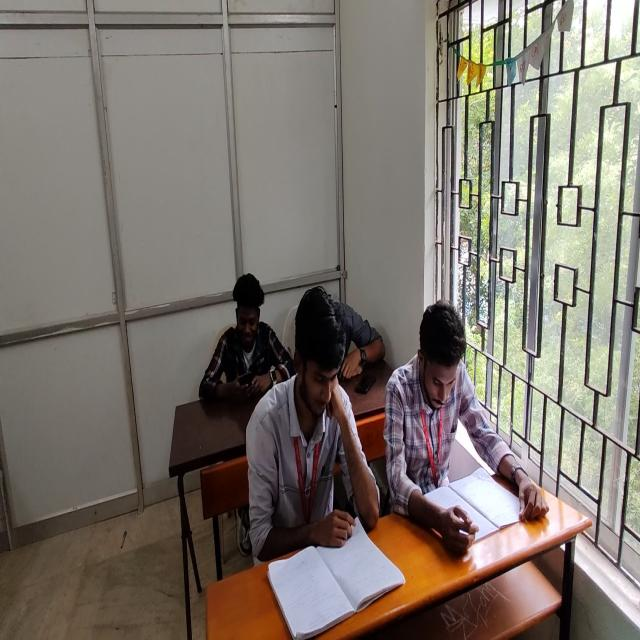reading: (245, 286, 382, 570), (397, 301, 542, 550)
sleeping: (298, 293, 385, 384)
using_mobile: (200, 273, 295, 402)
